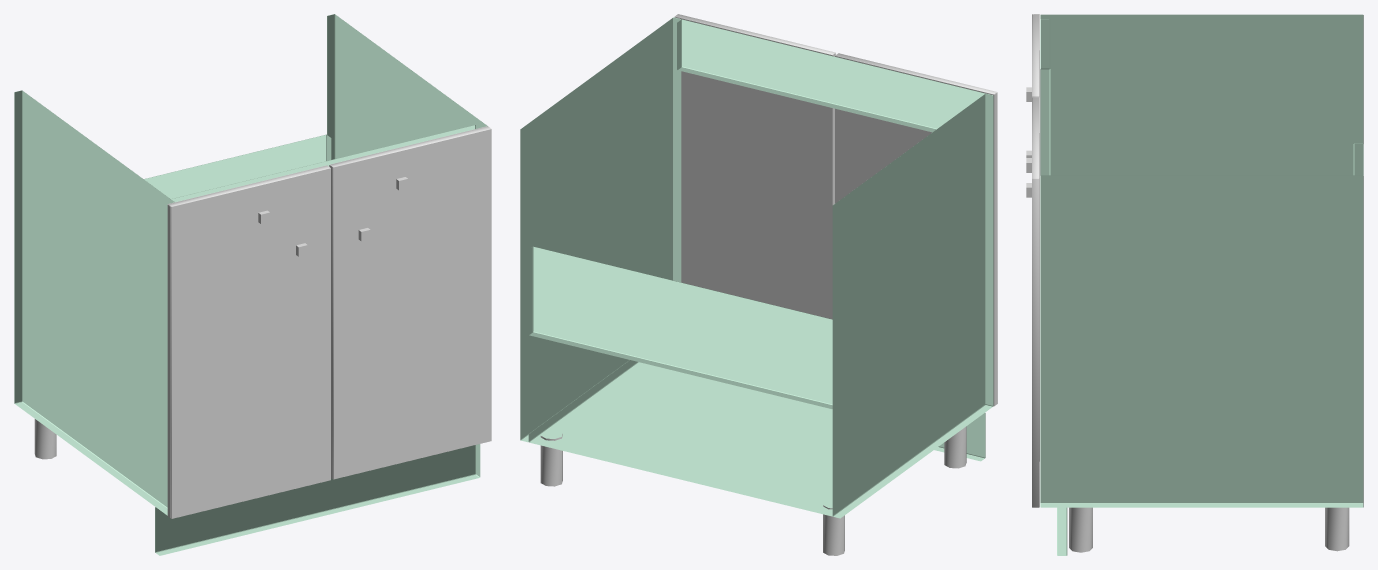
3 renders of one model, left to right at view 1: azimuth 30°, elevation 25°; view 2: azimuth 150°, elevation 25°; view 3: azimuth 270°, elevation 25°, orthographic. The views are drawn at different scales.
Parts seen in each view (by area): view 1: M_CL_5, M_CL_1_F.005, M_CL_1_F.006, M_CL_1_F_C.005, Legs.004, M_CL_1_F_C.006; view 2: M_CL_5, M_CL_1_F_B.006, M_CL_1_F_A.006, M_CL_1_F_A.005, Legs.004, M_CL_1_F_C.005, M_CL_1_F.005, M_CL_1_F_B.005, M_CL_1_F.006; view 3: M_CL_5, M_CL_1_F.006, Legs.004, M_CL_1_F.005.
Part boxes in pixels (left/top/right/bottom): M_CL_5: left=14, top=14, right=487, bottom=555; M_CL_1_F.005: left=168, top=165, right=330, bottom=518; M_CL_1_F.006: left=330, top=126, right=491, bottom=479; M_CL_1_F_C.005: left=167, top=205, right=170, bottom=517; Legs.004: left=34, top=419, right=56, bottom=459; M_CL_1_F_C.006: left=329, top=165, right=332, bottom=478; M_CL_5: left=520, top=17, right=993, bottom=518; M_CL_1_F_B.006: left=754, top=36, right=834, bottom=319; M_CL_1_F_A.006: left=674, top=16, right=834, bottom=299; M_CL_1_F_A.005: left=835, top=55, right=995, bottom=203; Legs.004: left=540, top=426, right=966, bottom=555; M_CL_1_F_C.005: left=835, top=56, right=997, bottom=405; M_CL_1_F.005: left=835, top=53, right=997, bottom=403; M_CL_1_F_B.005: left=915, top=75, right=996, bottom=406; M_CL_1_F.006: left=675, top=14, right=835, bottom=54; M_CL_5: left=1040, top=14, right=1363, bottom=555; M_CL_1_F.006: left=1032, top=97, right=1039, bottom=507; Legs.004: left=1069, top=507, right=1349, bottom=552; M_CL_1_F.005: left=1032, top=14, right=1039, bottom=97.
Size of the model in its own units: 7.01 by 7.51 by 6.05.
